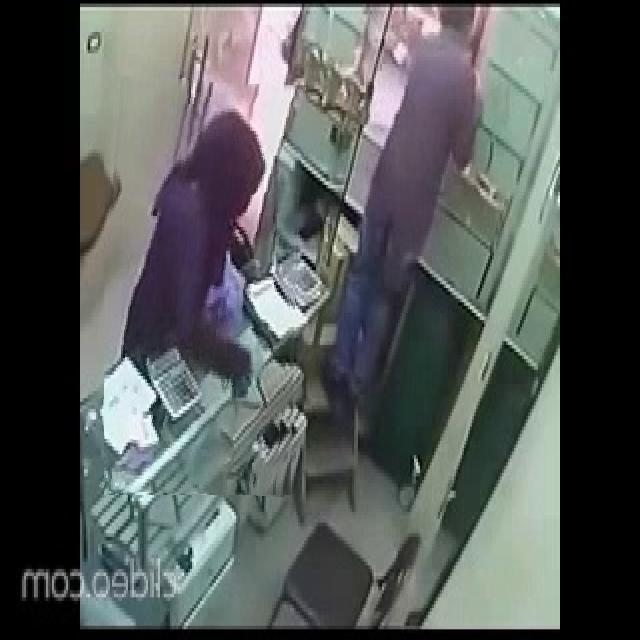Shoplifting: (104, 79, 300, 495)
